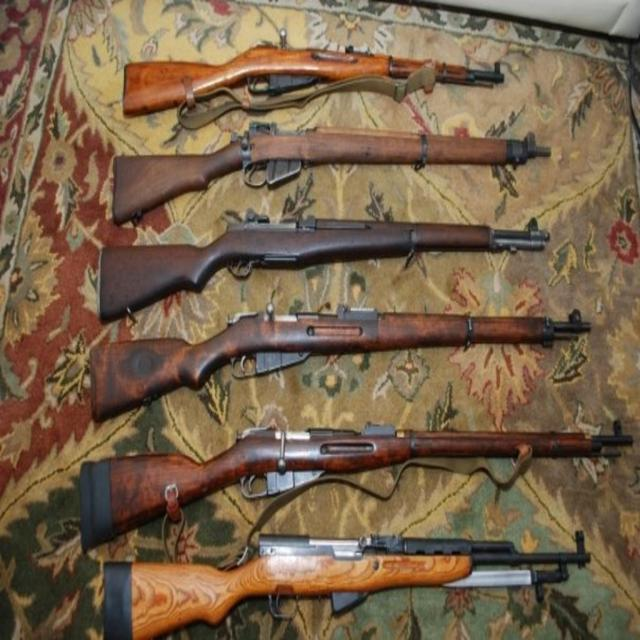weapon: (79, 29, 636, 640)
